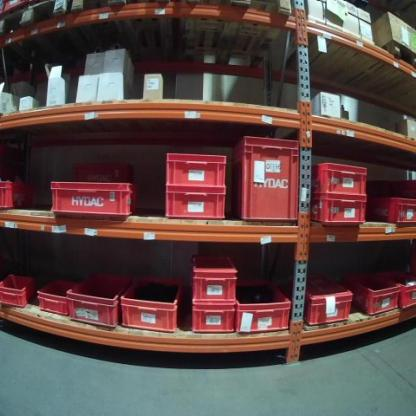pallet: (182, 0, 293, 68), (75, 0, 178, 69), (343, 45, 416, 98)
small_load_carrier: (227, 135, 301, 223), (67, 270, 134, 330), (121, 273, 186, 333), (235, 273, 294, 337), (48, 178, 139, 218), (302, 268, 353, 326), (190, 251, 242, 303), (350, 268, 401, 319), (162, 148, 228, 186), (164, 187, 228, 221), (310, 159, 369, 195), (311, 195, 369, 227), (36, 275, 77, 316), (190, 302, 237, 336), (1, 268, 39, 308), (373, 194, 415, 227), (387, 264, 416, 309), (0, 177, 40, 209)
